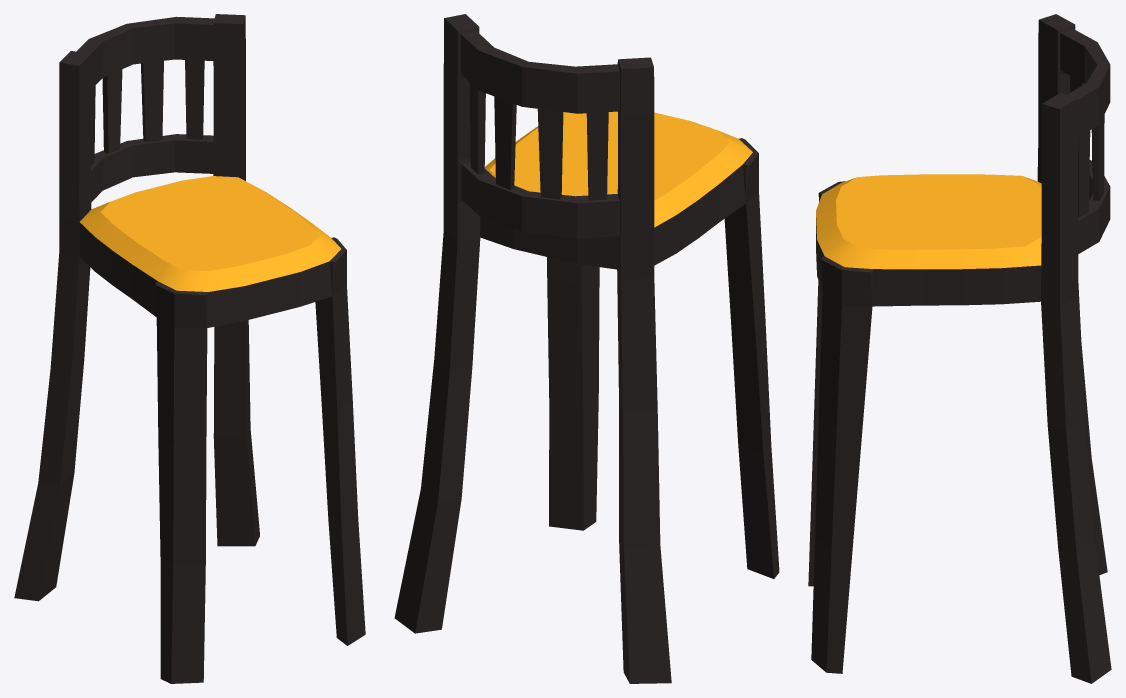
File: b2620791-6aaa-41a0-8ea8-f6975fccc0d2.glb
3 renders of one model, left to right at view 1: azimuth 30°, elevation 25°; view 2: azimuth 150°, elevation 25°; view 3: azimuth 270°, elevation 25°, orthographic. The views are drawn at different scales.
Parts seen in each view (by area): view 1: BarChair.010; view 2: BarChair.010; view 3: BarChair.010.
Part boxes in pixels (box(x1,y1,x2,y2)): BarChair.010: box(14, 14, 365, 683); BarChair.010: box(394, 14, 779, 683); BarChair.010: box(808, 14, 1111, 683).
Size of what is drawn, in the model's own units: 0.5565 by 1.15 by 0.5668.
Materials: 1 (1 with a texture image).
